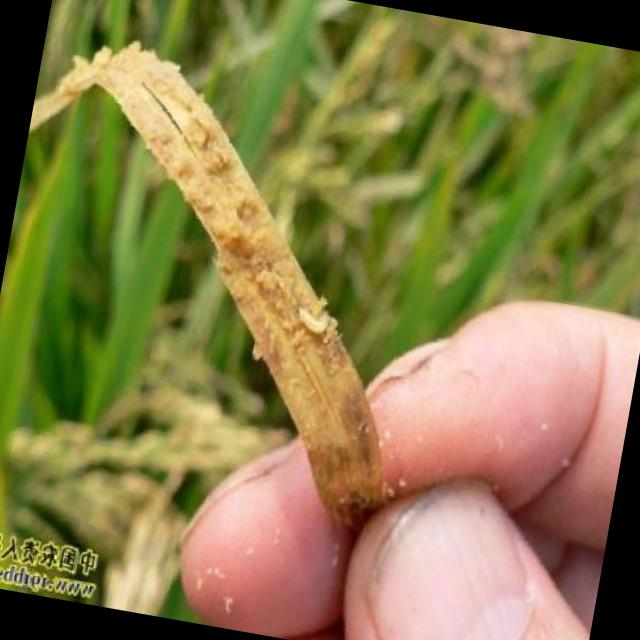whorl-maggot: (287, 303, 337, 347)
